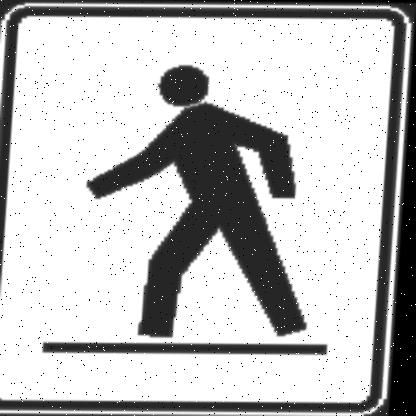Pedestrian Crossing: (23, 46, 370, 366)
